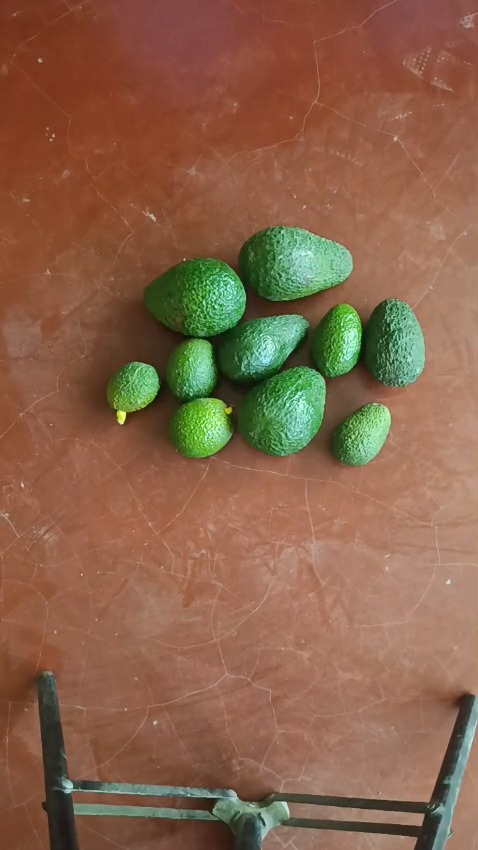Primera: (238, 226, 353, 302), (144, 258, 247, 337), (237, 366, 326, 454)
Segunda: (216, 314, 310, 384), (362, 299, 425, 387)
Tercera: (168, 397, 235, 458), (309, 302, 361, 378), (330, 402, 391, 464), (165, 338, 220, 402), (106, 361, 160, 412)
